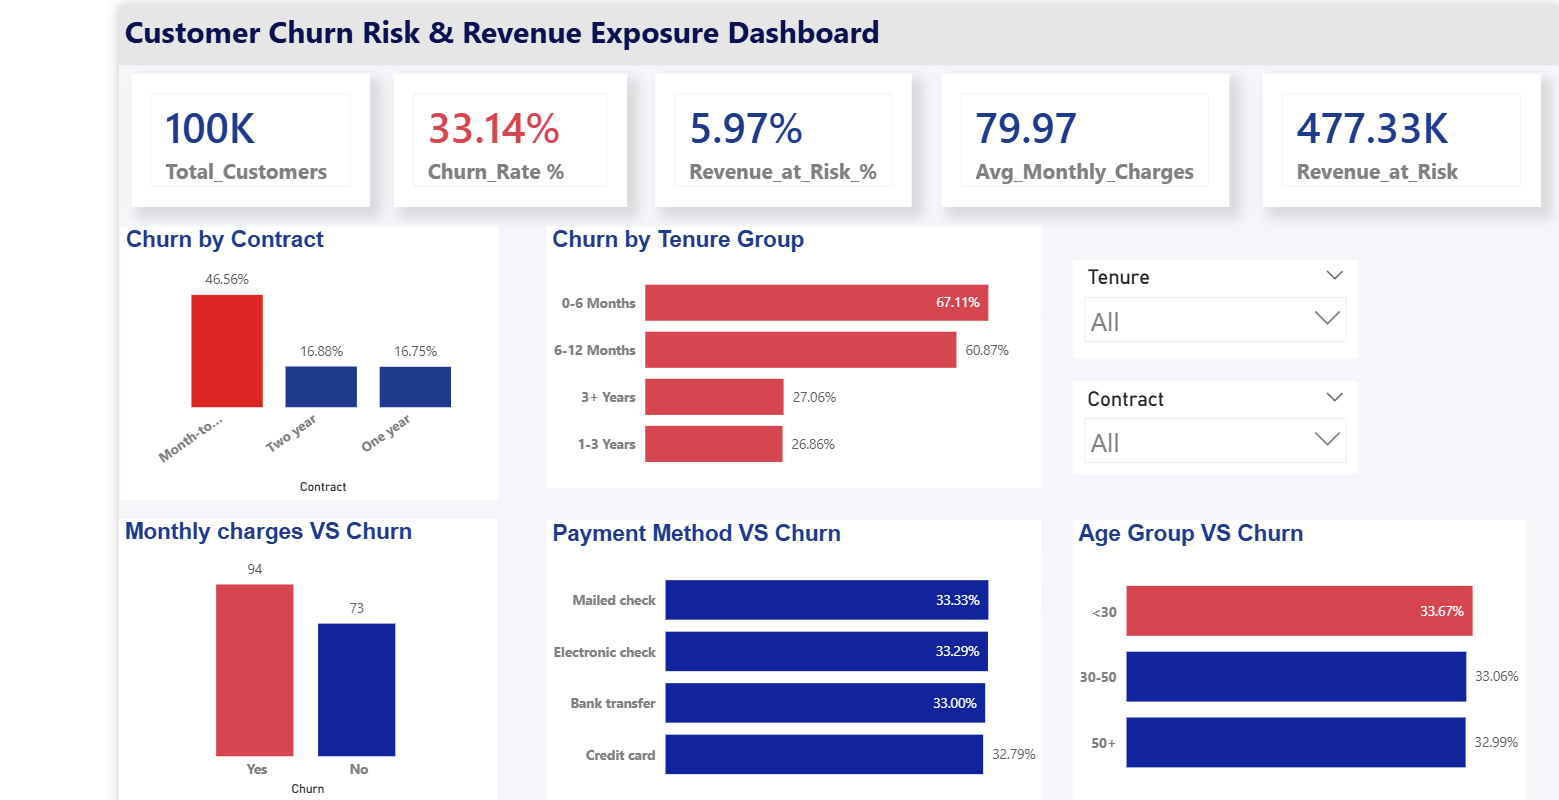

Layout of this report page (visuals, bound fields, positions):
{"tool":"powerbi","page":{"name":"Dashboard","canvas":[1280,720],"ordinal":0},"visuals":[{"type":"textbox","box":[0,0,1280.2,53.5],"z":0},{"type":"cardVisual","fields":{"Data":["synthetic_customer_churn_100k.Avg_Monthly_Charges"]},"box":[731.1,61.5,255.8,118.2],"z":1000},{"type":"cardVisual","fields":{"Data":["synthetic_customer_churn_100k.Revenue_at_Risk_%"]},"box":[476.5,61.5,228,118.2],"z":2000},{"type":"cardVisual","fields":{"Data":["synthetic_customer_churn_100k.Churn_Rate"]},"box":[244.9,61.5,207.5,118.2],"z":3000},{"type":"cardVisual","fields":{"Data":["synthetic_customer_churn_100k.Total_Customers"]},"box":[10.9,61.5,212.3,118.2],"z":4000},{"type":"clusteredColumnChart","title":"Churn by Contract","fields":{"Category":["synthetic_customer_churn_100k.Contract"],"Y":["synthetic_customer_churn_100k.Churn_Rate"]},"box":[1.4,196.2,336.2,242.9],"z":5000},{"type":"barChart","title":"Churn by Tenure Group","fields":{"Category":["synthetic_customer_churn_100k.Tenure Group"],"Y":["synthetic_customer_churn_100k.Churn_Rate"]},"box":[380,196.6,440.4,232.8],"z":6000},{"type":"clusteredColumnChart","title":"Monthly charges VS Churn","fields":{"Y":["synthetic_customer_churn_100k.Avg_Monthly_Charges"],"Category":["synthetic_customer_churn_100k.Churn"]},"box":[0,456.9,336.2,251.1],"z":7000},{"type":"barChart","title":"Payment Method VS Churn","fields":{"Category":["synthetic_customer_churn_100k.PaymentMethod"],"Y":["synthetic_customer_churn_100k.Churn_Rate"]},"box":[380,457.2,440.4,250.9],"z":8000},{"type":"clusteredBarChart","title":"Age Group VS Churn","fields":{"Category":["synthetic_customer_churn_100k.AgeGroup"],"Y":["synthetic_customer_churn_100k.Churn_Rate"]},"box":[848.1,457.2,403,250.9],"z":9000},{"type":"slicer","fields":{"Values":["synthetic_customer_churn_100k.Contract"]},"box":[848.1,334.2,253.4,82],"z":10000},{"type":"slicer","fields":{"Values":["synthetic_customer_churn_100k.Tenure"]},"box":[848.1,226.8,253.4,86.9],"z":11000},{"type":"cardVisual","fields":{"Data":["synthetic_customer_churn_100k.Revenue_at_Risk"]},"box":[1017,61.5,247.3,118.2],"z":12000}]}

Visuals, with their boxes on the page's 1280x720 design canvas (x1, y1, x2, y2). These are canvas units, not pixel positions in the 1559x800 screenshot, which may show the page scaled, cropped or inside an application window:
textbox: detection(0, 0, 1280, 54)
cardVisual - synthetic_customer_churn_100k.Avg_Monthly_Charges: detection(731, 62, 987, 180)
cardVisual - synthetic_customer_churn_100k.Revenue_at_Risk_%: detection(476, 62, 704, 180)
cardVisual - synthetic_customer_churn_100k.Churn_Rate: detection(245, 62, 452, 180)
cardVisual - synthetic_customer_churn_100k.Total_Customers: detection(11, 62, 223, 180)
"Churn by Contract" clusteredColumnChart: detection(1, 196, 338, 439)
"Churn by Tenure Group" barChart: detection(380, 197, 820, 429)
"Monthly charges VS Churn" clusteredColumnChart: detection(0, 457, 336, 708)
"Payment Method VS Churn" barChart: detection(380, 457, 820, 708)
"Age Group VS Churn" clusteredBarChart: detection(848, 457, 1251, 708)
slicer - synthetic_customer_churn_100k.Contract: detection(848, 334, 1102, 416)
slicer - synthetic_customer_churn_100k.Tenure: detection(848, 227, 1102, 314)
cardVisual - synthetic_customer_churn_100k.Revenue_at_Risk: detection(1017, 62, 1264, 180)
